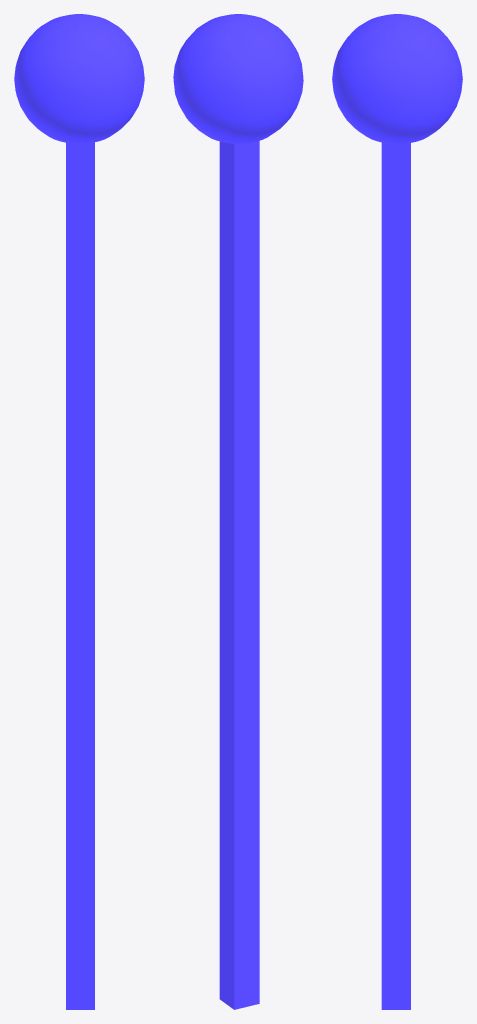
File: NewWebMenuAssistenzaListner.gltf
3 renders of one model, left to right at view 1: azimuth 90°, elevation 25°; view 2: azimuth 210°, elevation 25°; view 3: azimuth 270°, elevation 25°, orthographic.
Visible parts, largest first — view 1: ListnerModuli.001; view 2: ListnerModuli.001; view 3: ListnerModuli.001.
Part boxes in pixels (x1,y1,x2,y2): ListnerModuli.001: (14,14,144,1009); ListnerModuli.001: (173,14,303,1009); ListnerModuli.001: (332,14,462,1009).
Size of the model in its own units: 0.0421 by 0.3497 by 0.0421.
